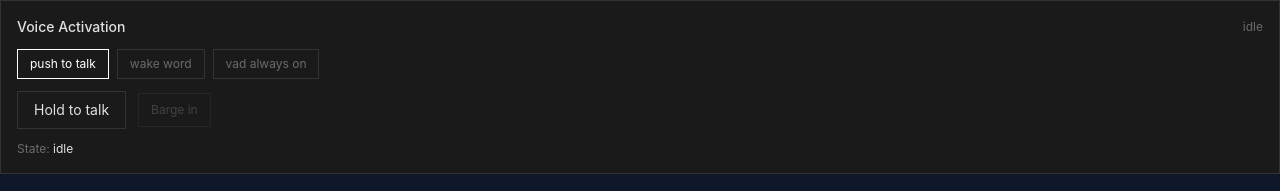
Test: VoiceActivation › requests microphone permission on push-to-talk press
Press the mouse on the button with test id "push-to-talk-button" at (72, 110), box [17,91,126,129]
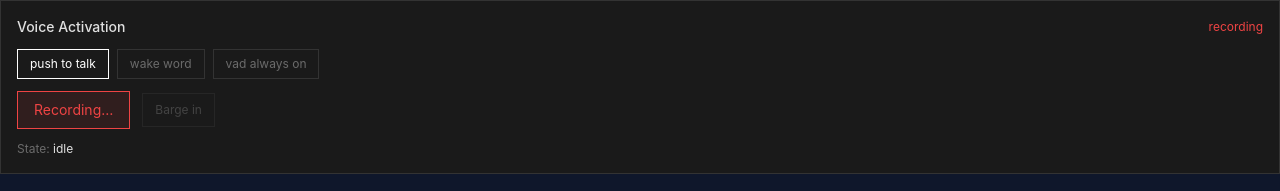
Result: the text with test id "mic-status" reads "recording" at [1209,19,1263,34]
